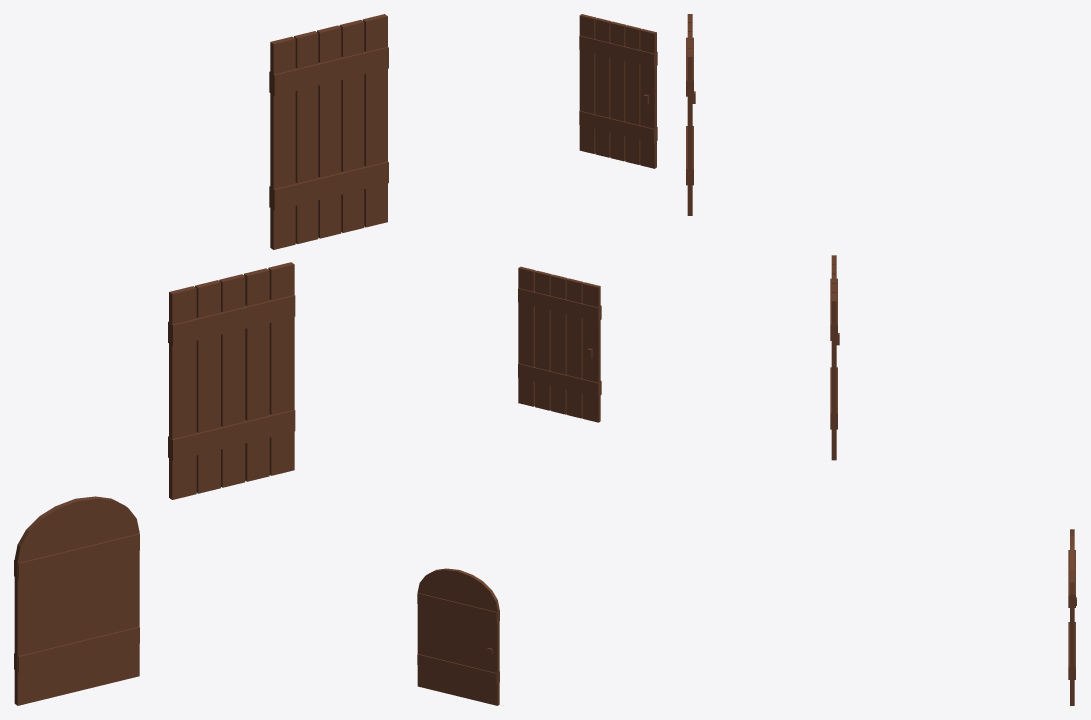
File: castle_passable.glb
3 views of the same model, side by side, from view 1: azimuth 30°, elevation 25°; view 2: azimuth 150°, elevation 25°; view 3: azimuth 270°, elevation 25° (orthographic). The views are drawn at different scales.
Visible parts, largest first — view 1: Castle.Level2.Door.Passable, Castle.Level3.Door.Passable, Keep.Level1.Door.Passable; view 2: Castle.Level2.Door.Passable, Castle.Level3.Door.Passable, Keep.Level1.Door.Passable; view 3: Castle.Level2.Door.Passable, Castle.Level3.Door.Passable, Keep.Level1.Door.Passable.
Boxes of the visible parts, <box> form: Castle.Level2.Door.Passable: <box>168,262,295,499</box>; Castle.Level3.Door.Passable: <box>269,14,388,249</box>; Keep.Level1.Door.Passable: <box>14,496,139,705</box>; Castle.Level2.Door.Passable: <box>518,266,601,422</box>; Castle.Level3.Door.Passable: <box>579,14,657,168</box>; Keep.Level1.Door.Passable: <box>417,568,499,705</box>; Castle.Level2.Door.Passable: <box>830,255,839,460</box>; Castle.Level3.Door.Passable: <box>686,14,695,215</box>; Keep.Level1.Door.Passable: <box>1068,529,1076,705</box>.
Size of the model in its own units: 0.4803 by 3.15 by 1.72.
